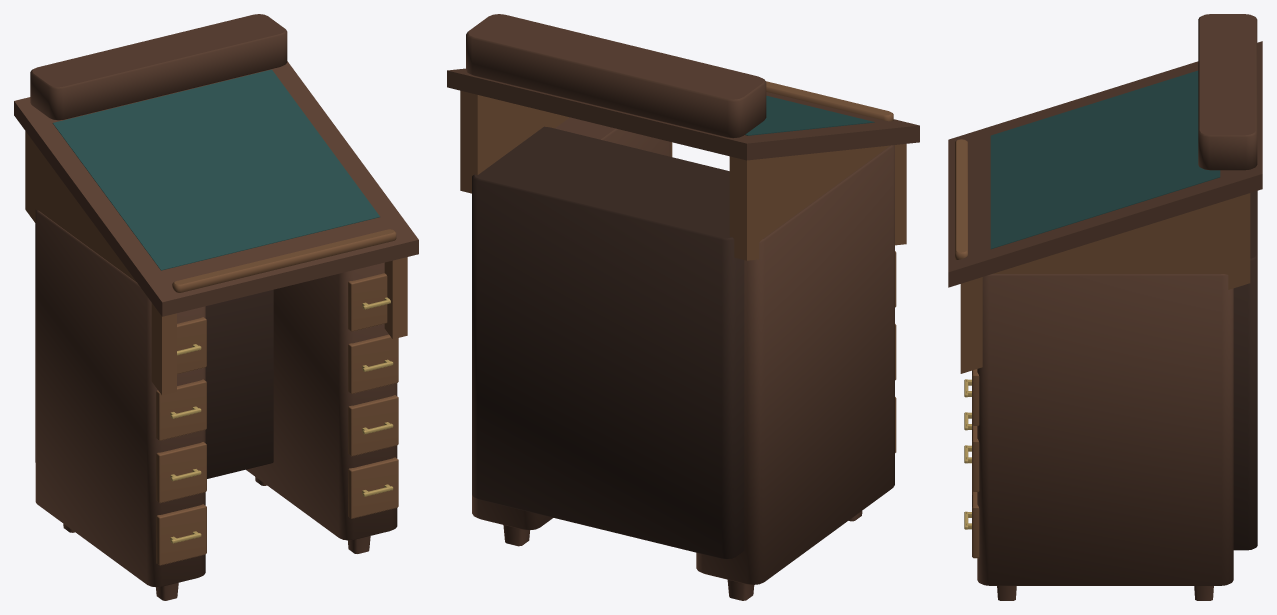
The model's file is rpg-mansion-davenport-writing-desk-01.glb.
3 renders of one model, left to right at view 1: azimuth 30°, elevation 25°; view 2: azimuth 150°, elevation 25°; view 3: azimuth 270°, elevation 25°, orthographic. The views are drawn at different scales.
Parts seen in each view (by area): view 1: rpg-mansion-davenport-writing-desk-01; view 2: rpg-mansion-davenport-writing-desk-01; view 3: rpg-mansion-davenport-writing-desk-01.
Boxes of the visible parts, box(x1,y1,x2,y2) form: rpg-mansion-davenport-writing-desk-01: box(14, 14, 418, 600); rpg-mansion-davenport-writing-desk-01: box(447, 14, 919, 600); rpg-mansion-davenport-writing-desk-01: box(948, 14, 1262, 600).
Size of the model in its own units: 0.65 by 1.08 by 0.65.
